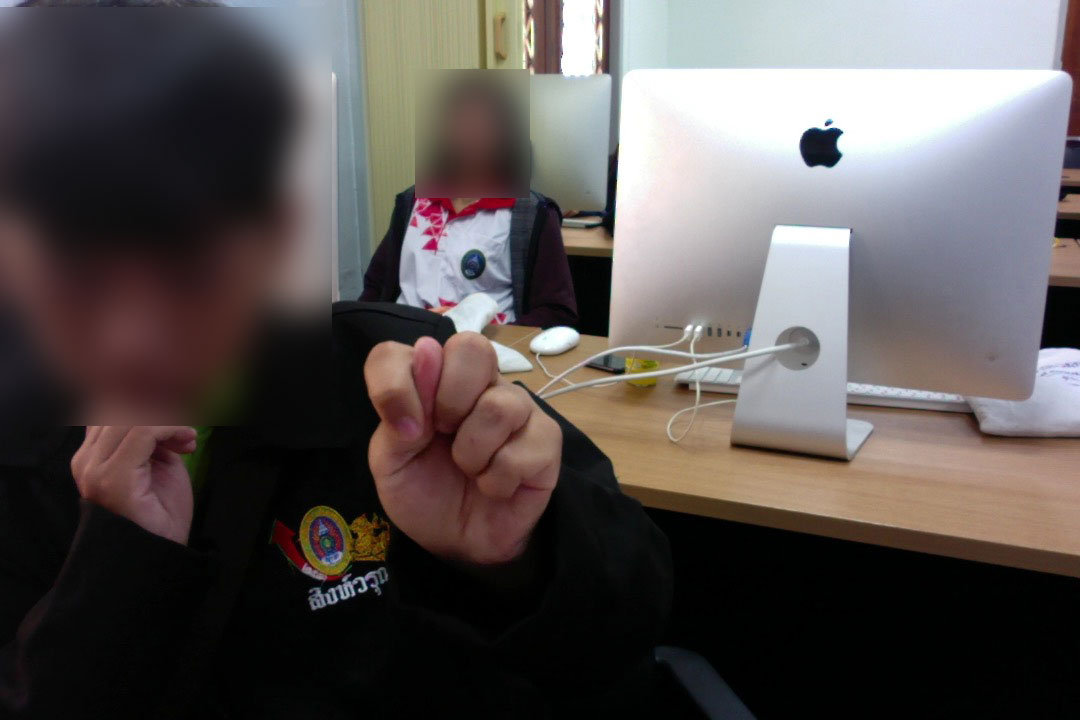tor: (349, 330, 570, 589)
